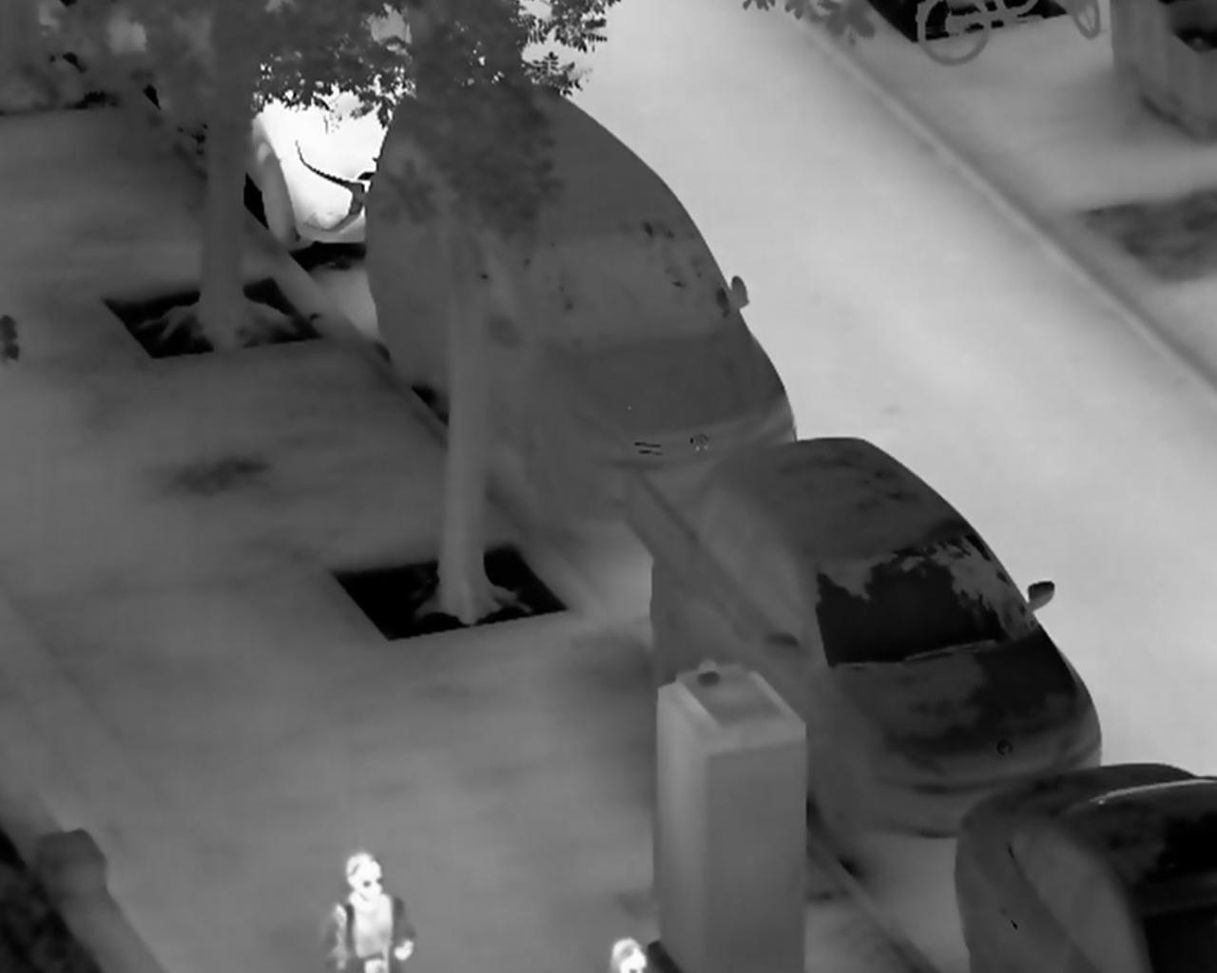person: (320, 850, 418, 973)
